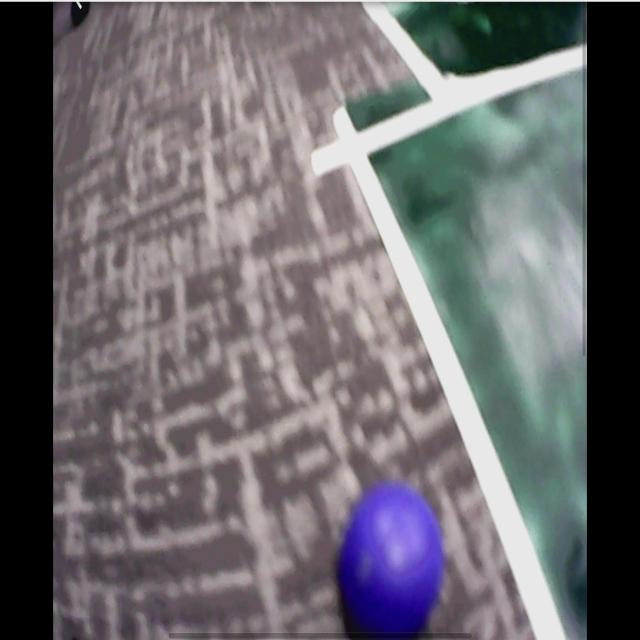ball: (341, 485, 439, 640)
